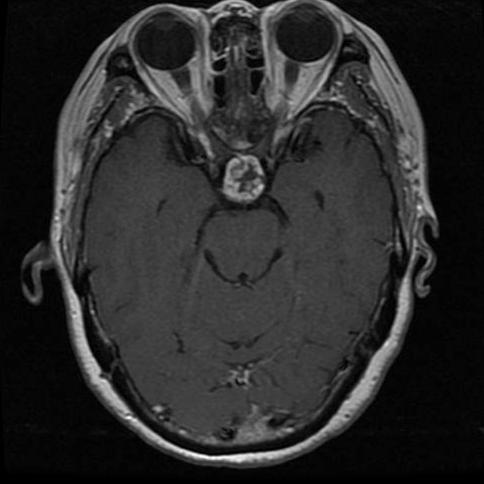Tumour-Pituitary: (215, 153, 278, 209)
